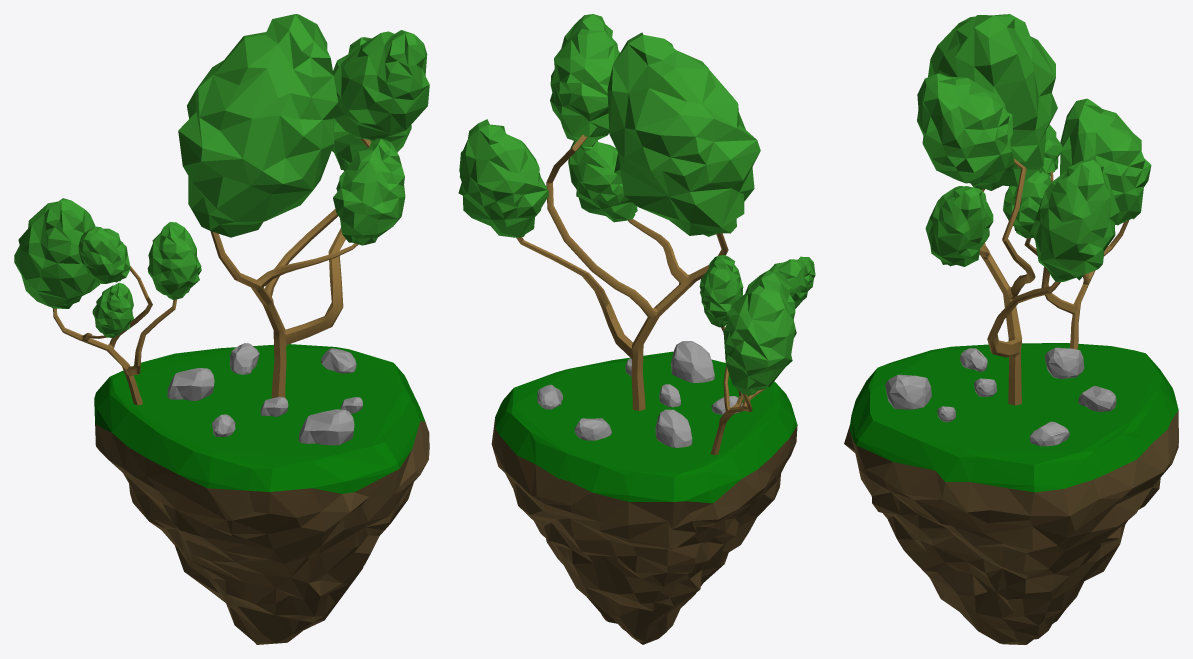
File: final_island_2.glb
The picture shows the model from 3 angles, left to right: view 1: azimuth 30°, elevation 25°; view 2: azimuth 150°, elevation 25°; view 3: azimuth 270°, elevation 25°; orthographic projection. The views are drawn at different scales.
Visible parts, largest first — view 1: Island1, Big_Tree, Big_Tree.001, Small_Rock.003, Small_Rock, Small_Rock.001, Small_Rock.004; view 2: Island1, Big_Tree, Big_Tree.001, Small_Rock.003, Small_Rock, Small_Rock.001, Small_Rock.004; view 3: Island1, Big_Tree, Big_Tree.001, Small_Rock.003, Small_Rock, Small_Rock.001, Small_Rock.004, Small_Rock.002.
Part boxes in pixels (x1=…): Island1: x1=94, y1=344, x2=429, y2=644; Big_Tree: x1=178, y1=14, x2=429, y2=398; Big_Tree.001: x1=14, y1=198, x2=201, y2=405; Small_Rock.003: x1=298, y1=409, x2=354, y2=445; Small_Rock: x1=167, y1=368, x2=214, y2=400; Small_Rock.001: x1=229, y1=343, x2=259, y2=374; Small_Rock.004: x1=321, y1=348, x2=356, y2=373; Island1: x1=491, y1=351, x2=797, y2=644; Big_Tree: x1=458, y1=14, x2=760, y2=410; Big_Tree.001: x1=699, y1=255, x2=815, y2=454; Small_Rock.003: x1=671, y1=341, x2=714, y2=382; Small_Rock: x1=655, y1=409, x2=692, y2=447; Small_Rock.001: x1=574, y1=418, x2=611, y2=440; Small_Rock.004: x1=537, y1=384, x2=562, y2=409; Island1: x1=844, y1=343, x2=1178, y2=644; Big_Tree: x1=917, y1=14, x2=1119, y2=405; Big_Tree.001: x1=1003, y1=98, x2=1151, y2=349; Small_Rock.003: x1=885, y1=374, x2=931, y2=409; Small_Rock: x1=1044, y1=347, x2=1084, y2=378; Small_Rock.001: x1=1078, y1=386, x2=1116, y2=411; Small_Rock.004: x1=1030, y1=421, x2=1069, y2=446; Small_Rock.002: x1=959, y1=348, x2=987, y2=371.
Bounding box in the file's own units: 31.13 × 51.12 × 24.42.
